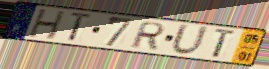7: (105, 15, 135, 48)
H: (26, 8, 68, 42)
R: (127, 20, 168, 51)
T: (67, 11, 95, 44), (211, 27, 239, 60)
U: (169, 22, 211, 58)
